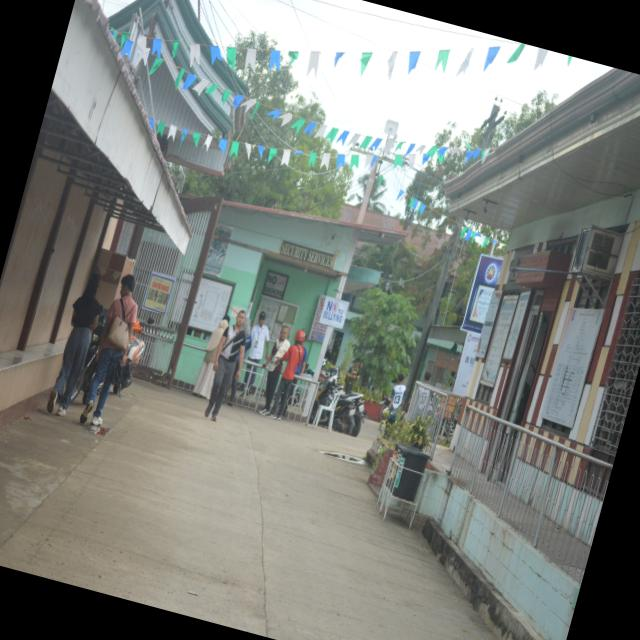person: (80, 274, 137, 426), (47, 274, 100, 416), (205, 311, 245, 421), (192, 311, 230, 399), (268, 330, 305, 419), (260, 326, 289, 415), (247, 312, 269, 364), (388, 372, 406, 421), (344, 359, 360, 393)
